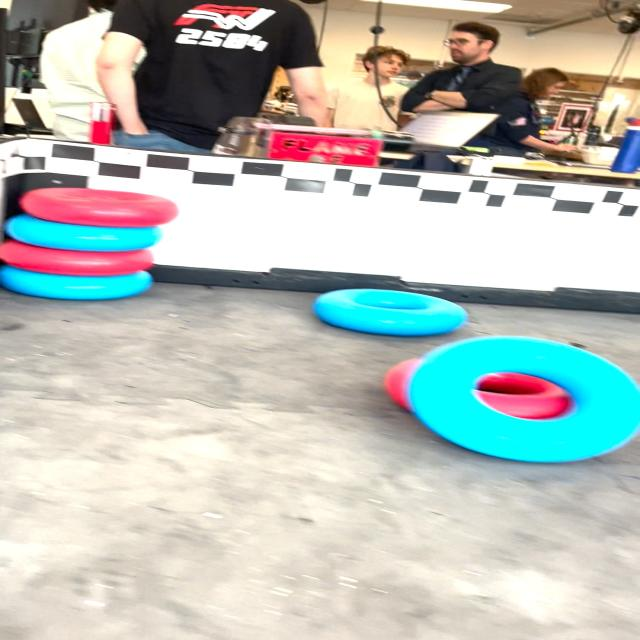Blue-Ring: (409, 334, 639, 460), (313, 289, 467, 336), (4, 214, 162, 251), (0, 265, 153, 300)
Red-Ring: (20, 188, 178, 228), (0, 240, 153, 276)
